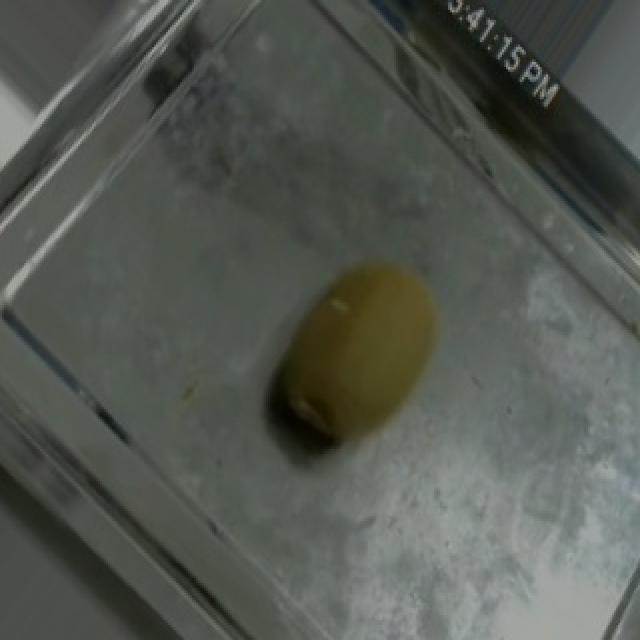Fruit: (236, 231, 482, 478)
